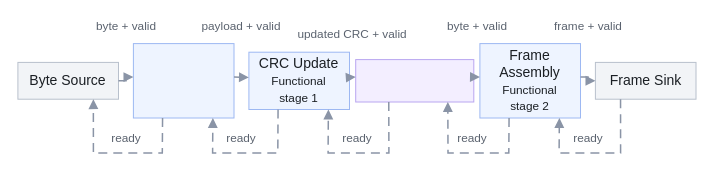
Image size: 714x179. Some labels were removed from this diagram. Each missing label, with the box of its shape:
Elastic FIFO 2 entries: (355, 59, 474, 102)
Header Decode Functional stage 0: (132, 43, 234, 118)
